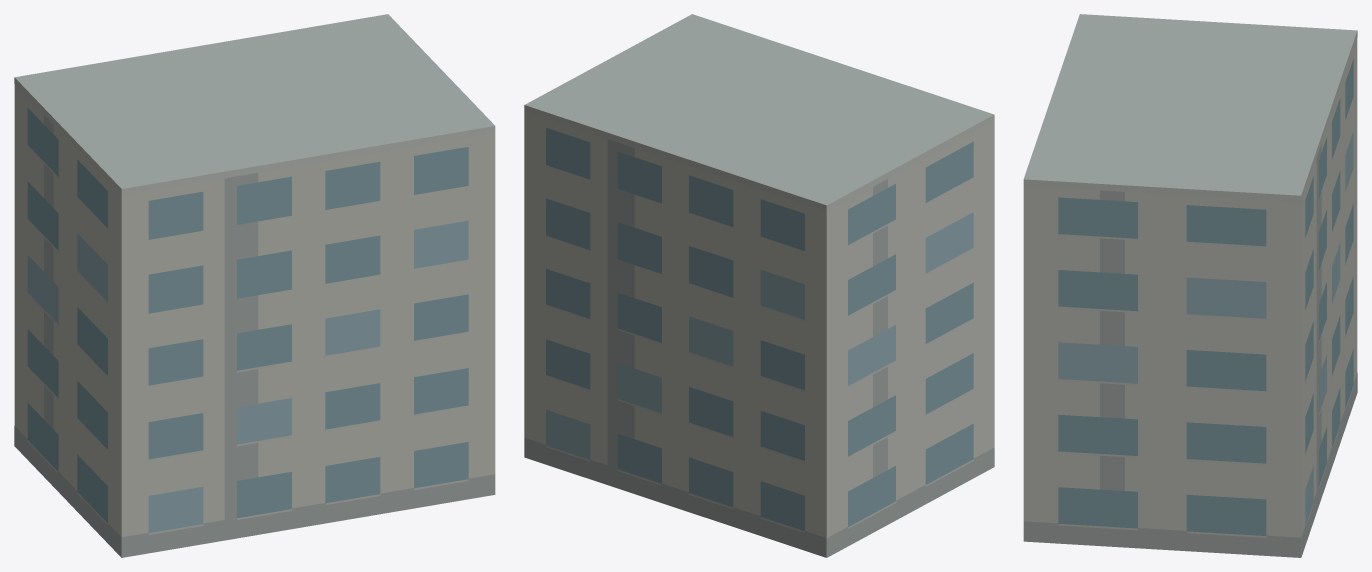
The model's file is survey-upis-32961631.glb.
The picture shows the model from 3 angles, left to right: view 1: azimuth 30°, elevation 25°; view 2: azimuth 150°, elevation 25°; view 3: azimuth 270°, elevation 25°; orthographic projection. The views are drawn at different scales.
Visible parts, largest first — view 1: survey-upis-32961631.tmp; view 2: survey-upis-32961631.tmp; view 3: survey-upis-32961631.tmp.
Part boxes in pixels (x1,y1,x2,y2): survey-upis-32961631.tmp: (14,14,495,557); survey-upis-32961631.tmp: (524,14,994,557); survey-upis-32961631.tmp: (1023,14,1357,557).
Size of the model in its own units: 14.32 by 13.3 by 11.12.
